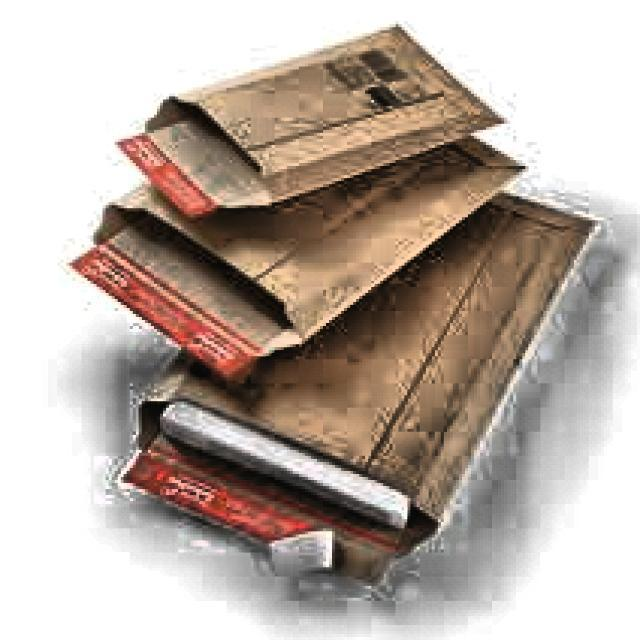cardboard: (120, 184, 594, 583)
